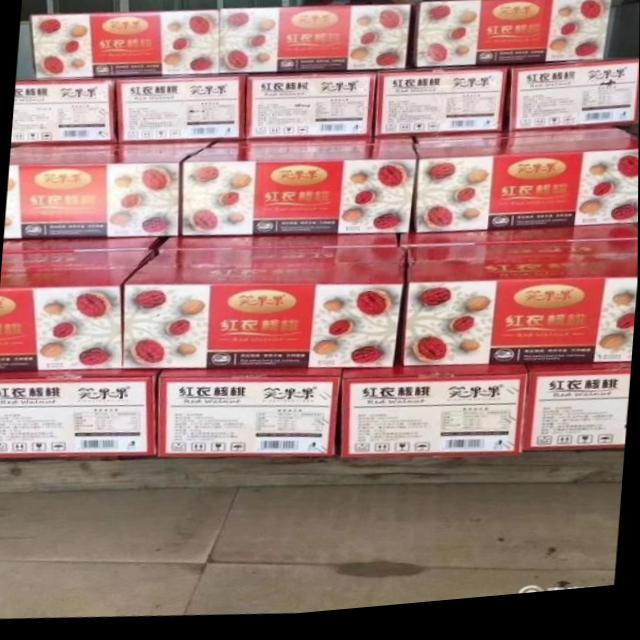box: (120, 270, 410, 387), (404, 267, 636, 374), (411, 135, 639, 239), (183, 143, 416, 239), (3, 143, 214, 240), (341, 373, 528, 463), (158, 375, 340, 462), (411, 6, 610, 77), (0, 270, 138, 372), (0, 371, 155, 460), (220, 10, 406, 81), (30, 13, 221, 82), (522, 372, 630, 461), (375, 75, 507, 145), (510, 69, 639, 140), (243, 78, 375, 146), (115, 81, 248, 145), (11, 81, 116, 144), (136, 253, 406, 272), (406, 253, 638, 272), (158, 235, 400, 253), (402, 235, 638, 253), (2, 252, 161, 273), (2, 235, 156, 253)
